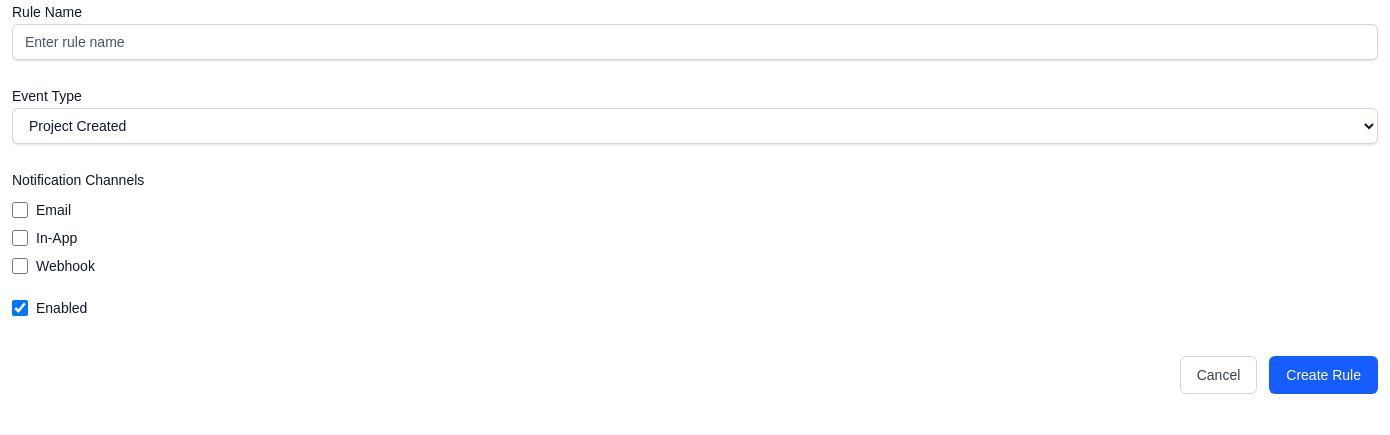
Test: NotificationRuleForm › should validate that at least one channel is selected
Type "Test Rule" into the field labelled "Rule Name". click: (695, 42)
box: [12,24,1378,60]
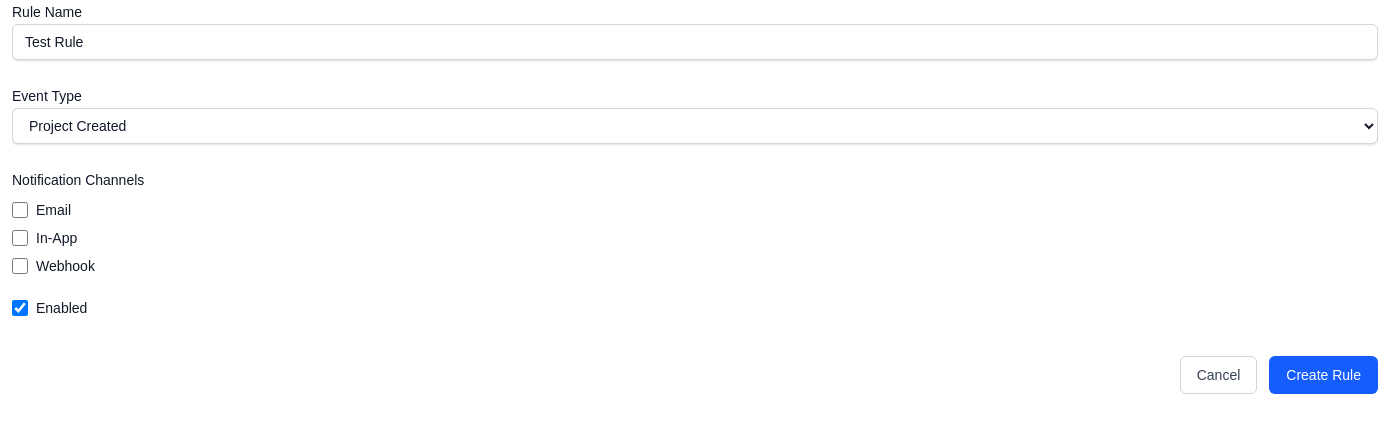
Click the button "Create Rule". click: (1324, 375)
box: [1269,356,1378,394]
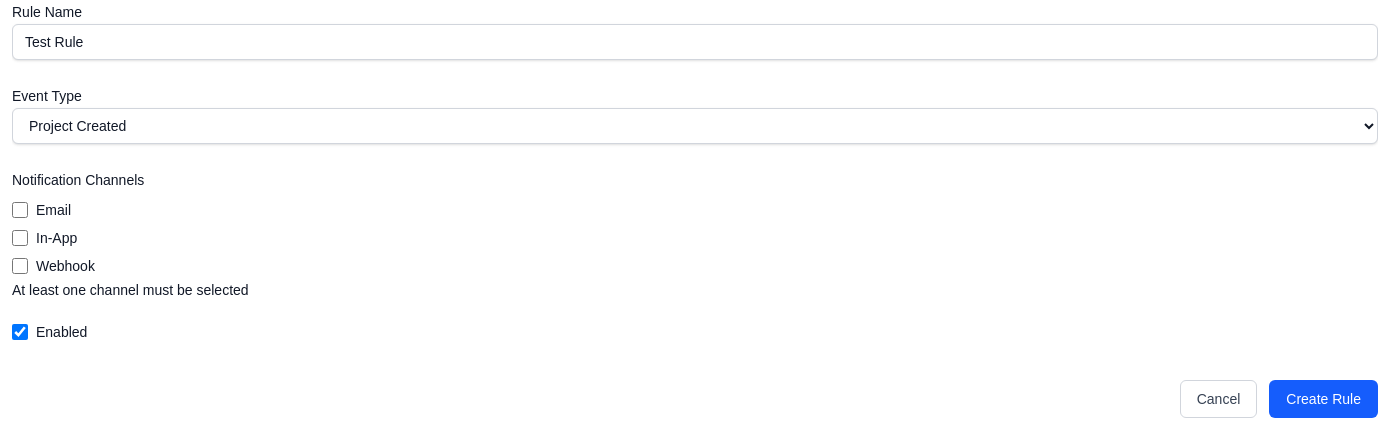
Expected: the text "At least one channel must be selected" is shown, [12,282,249,298]
